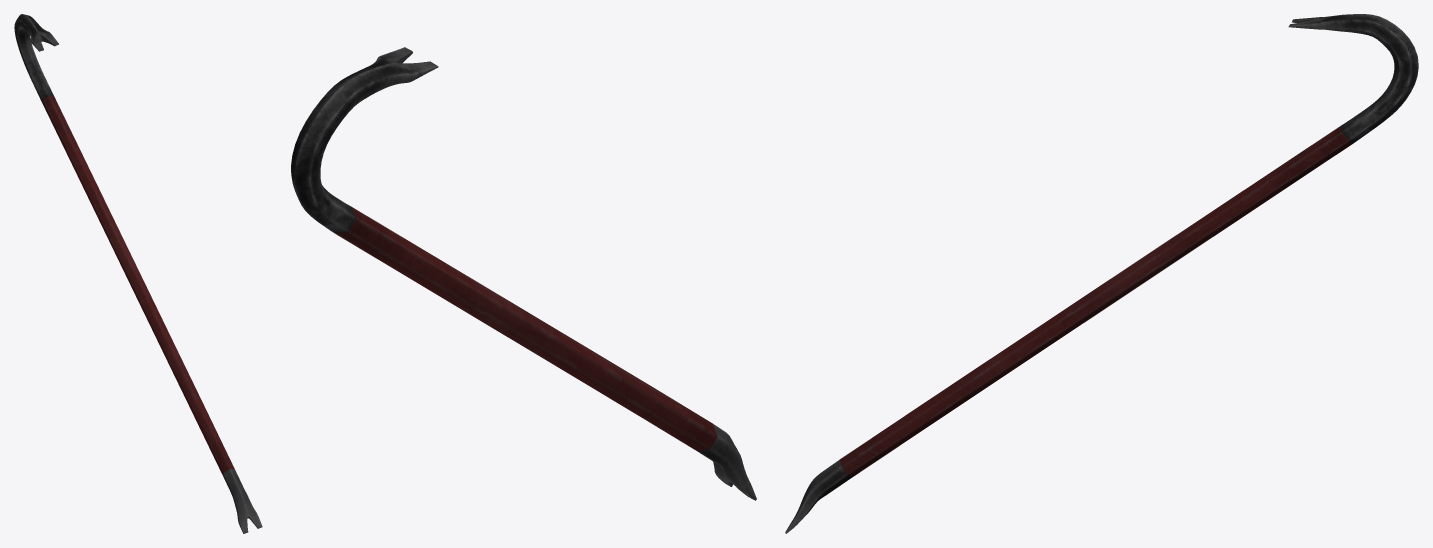
File: crowbar.glb
3 views of the same model, side by side, from view 1: azimuth 30°, elevation 25°; view 2: azimuth 150°, elevation 25°; view 3: azimuth 270°, elevation 25° (orthographic). The views are drawn at different scales.
Parts seen in each view (by area): view 1: Object_3, Object_2; view 2: Object_3, Object_2; view 3: Object_3, Object_2.
Boxes of the visible parts, x1,y1,x2,y2 form: Object_3: (42,95,234,475); Object_2: (14,14,262,533); Object_3: (335,206,716,450); Object_2: (291,47,756,500); Object_3: (839,126,1352,477); Object_2: (785,14,1418,533).
Bounding box in the file's own units: 0.3461 × 3.01 × 3.4.
2 materials, 2 textured.
